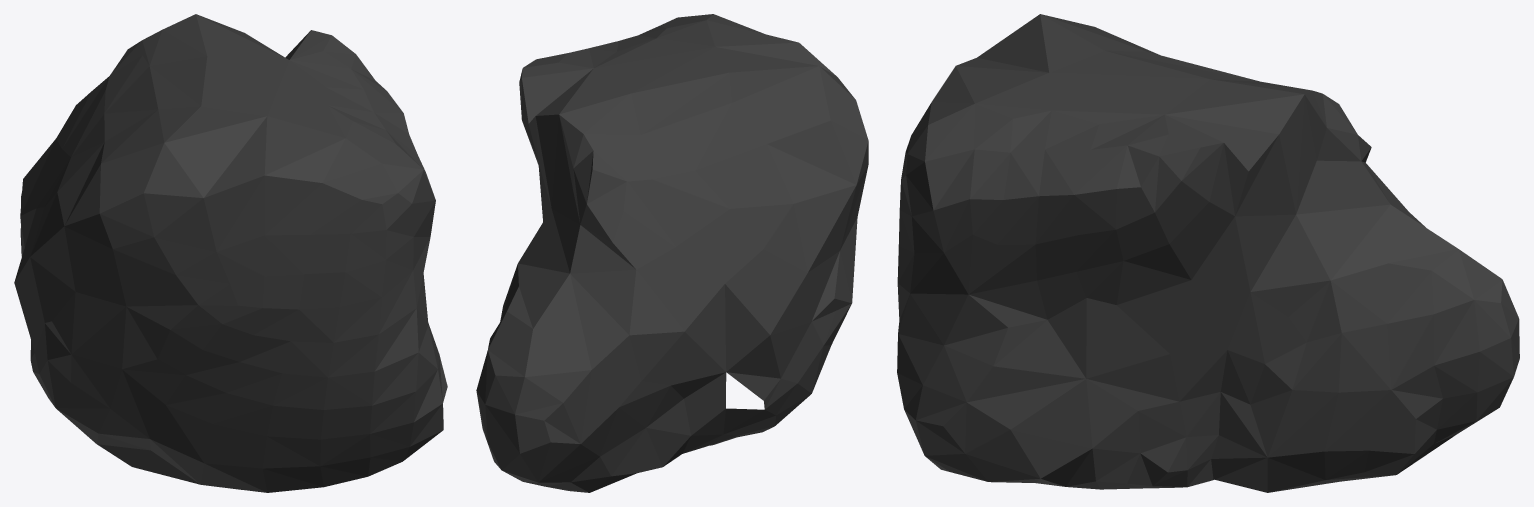
Rendered from 4th_carpal_R.glb.
3 renders of one model, left to right at view 1: azimuth 30°, elevation 25°; view 2: azimuth 150°, elevation 25°; view 3: azimuth 270°, elevation 25°, orthographic. The views are drawn at different scales.
Visible parts, largest first — view 1: 4th_carpal_R; view 2: 4th_carpal_R; view 3: 4th_carpal_R.
Part boxes in pixels (x1,y1,x2,y2): 4th_carpal_R: (14,14,447,492); 4th_carpal_R: (476,14,868,492); 4th_carpal_R: (897,14,1519,492).
Size of the model in its own units: 0.0348 by 0.0379 by 0.0533.
1 material, 1 textured.
